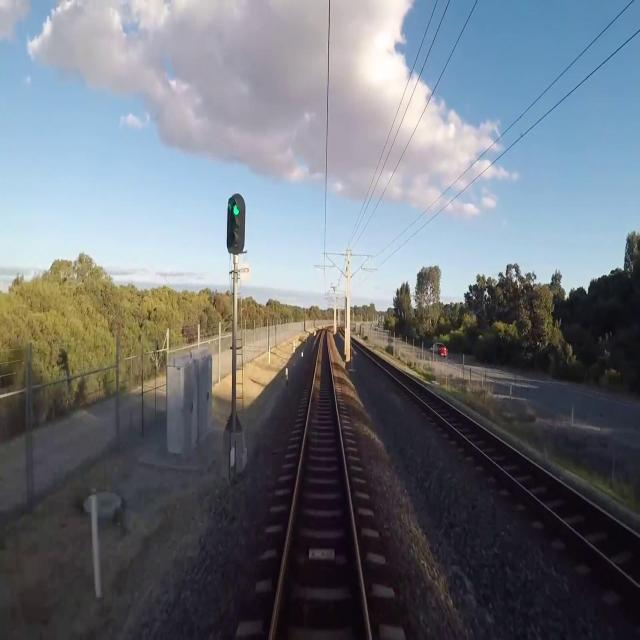rail-track: (371, 354, 640, 582), (273, 331, 366, 639)
